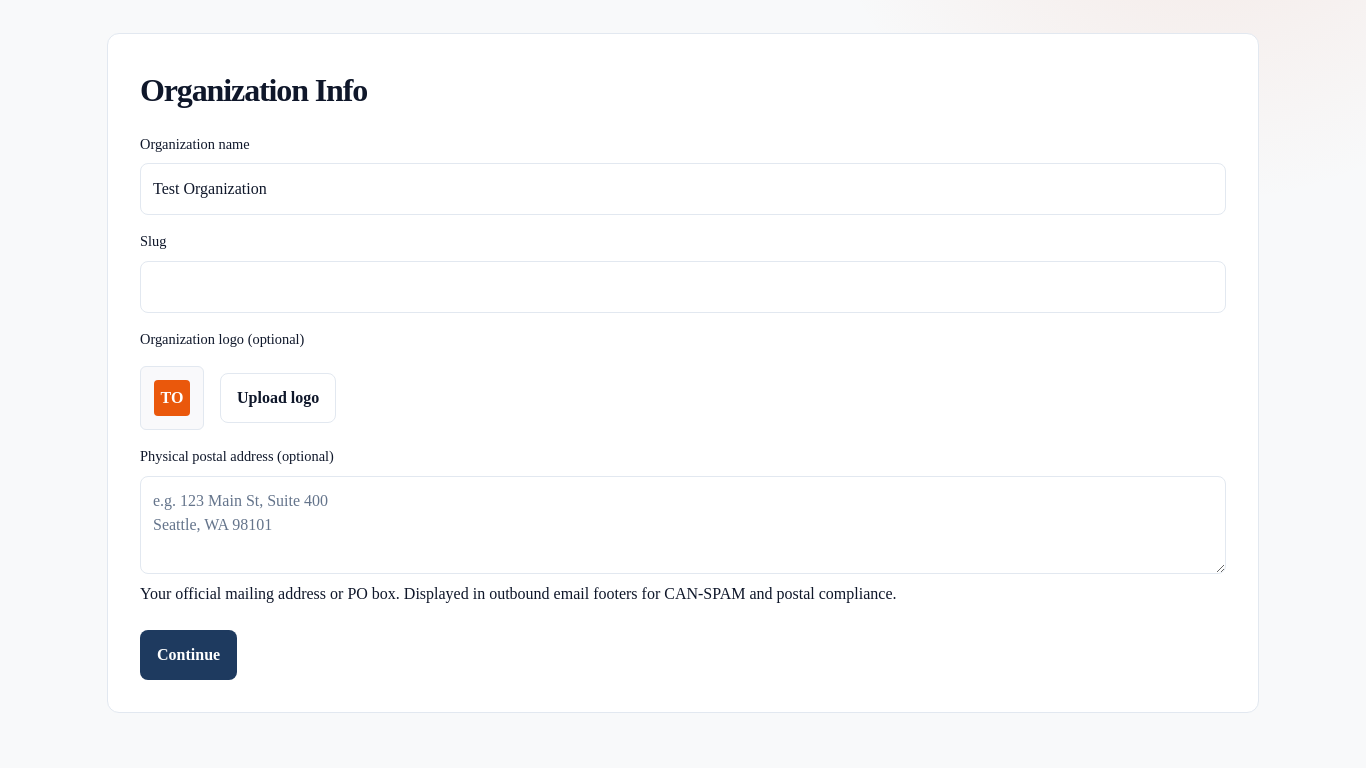
it: setup wizard completion › repairs missing Organization Info for a live Organization without replaying module setup
(page scrolled)
Check: the heading "Organization Info" is shown, box [140,72,367,108]
Check: the heading "Setup complete" is not shown
Click the button "Continue" at (189, 655), box [140,630,237,680]
(page scrolled)
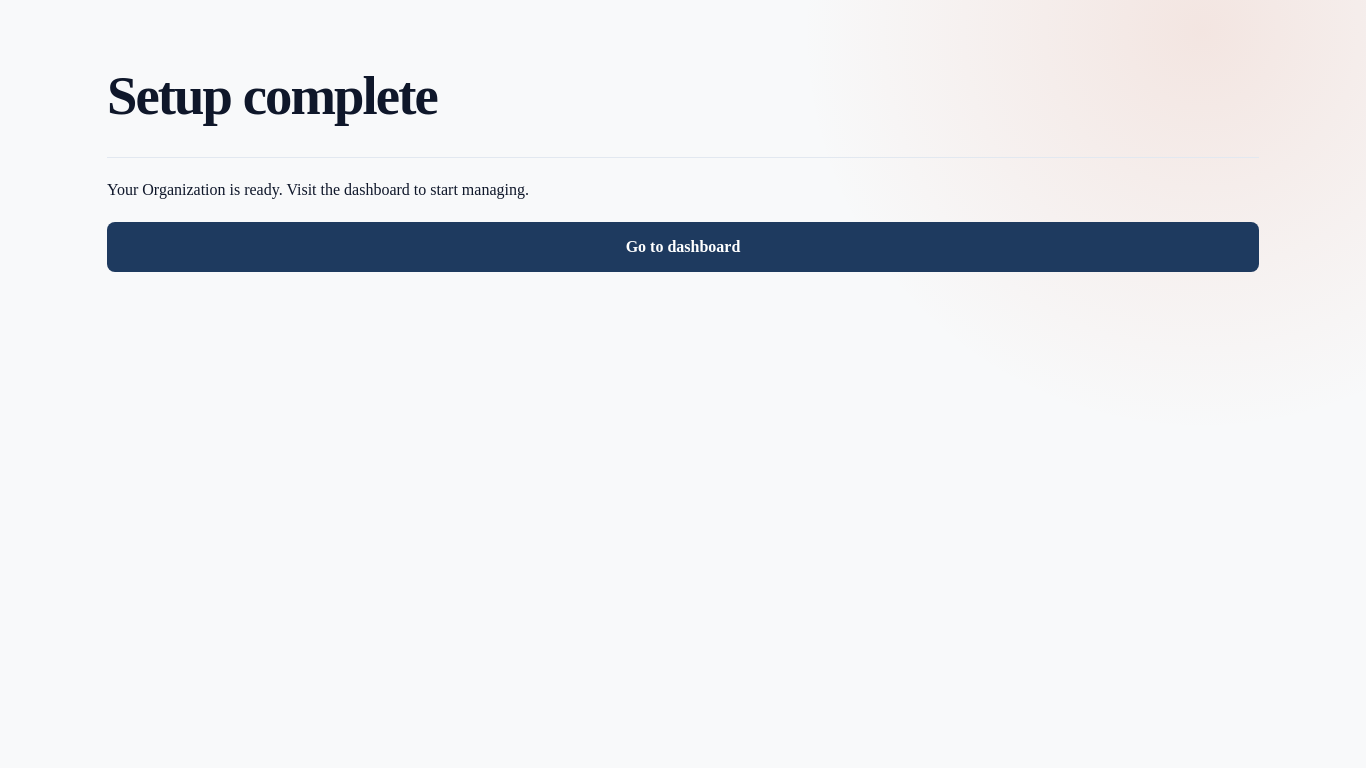
Check: the heading "Setup complete" is shown, box [107,55,437,137]
